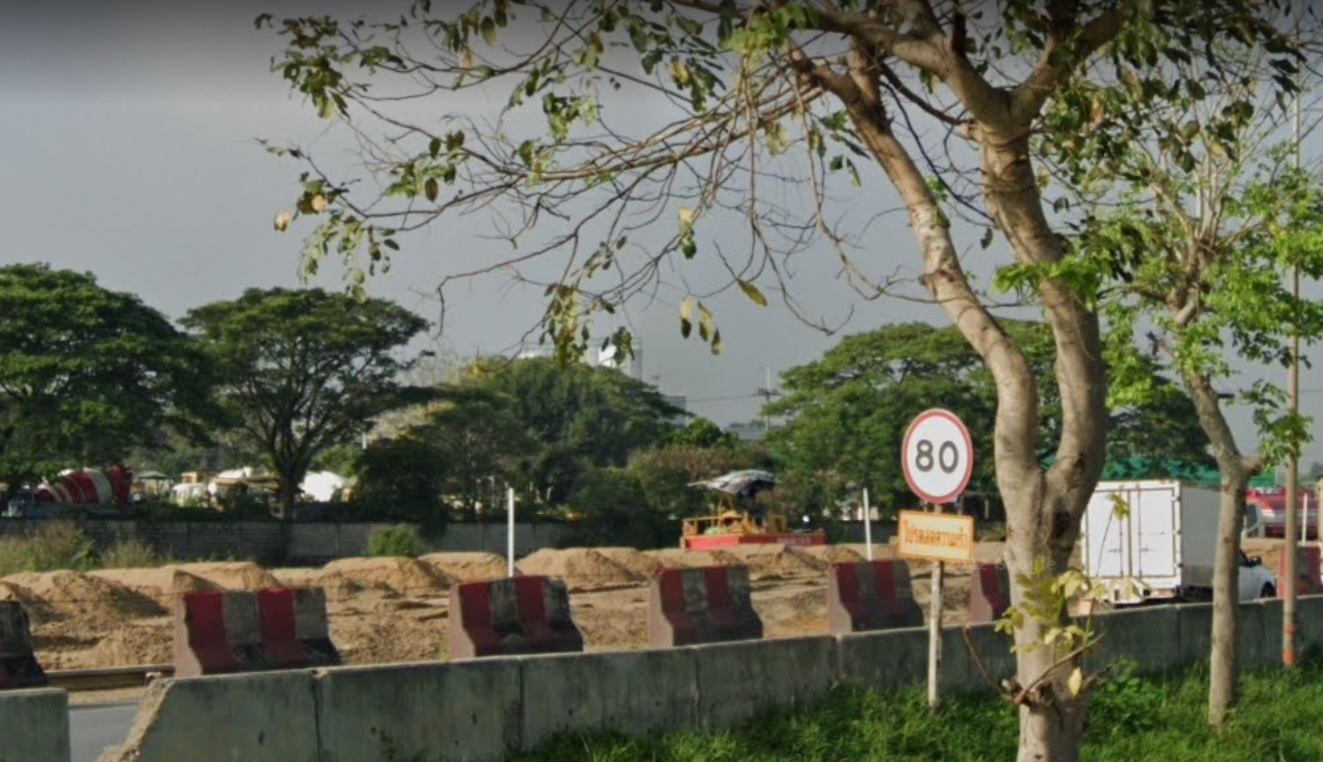80KPH: (897, 398, 975, 509)
